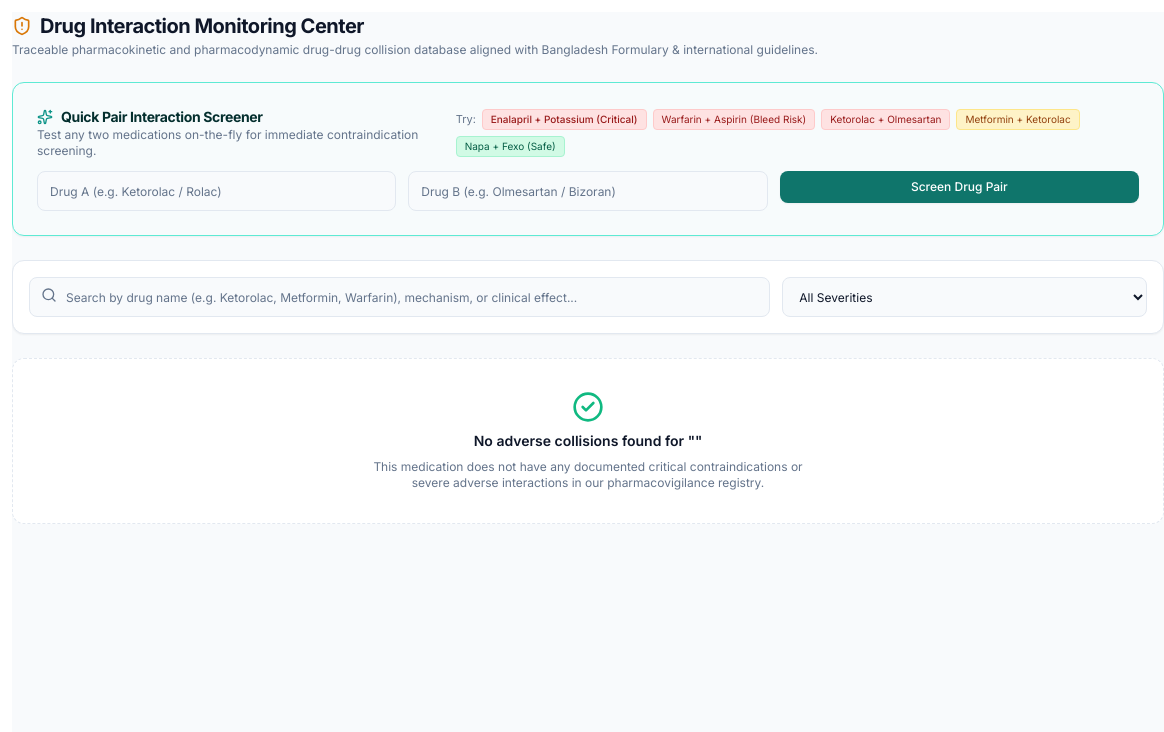
it: DrugInteractionPage › screens Warfarin + Aspirin as CRITICAL bleeding interaction
Type "Warfarin" into the field with placeholder "Drug A (e.g. Ketorolac / Rolac)" at (217, 191), box [37,171,396,211]
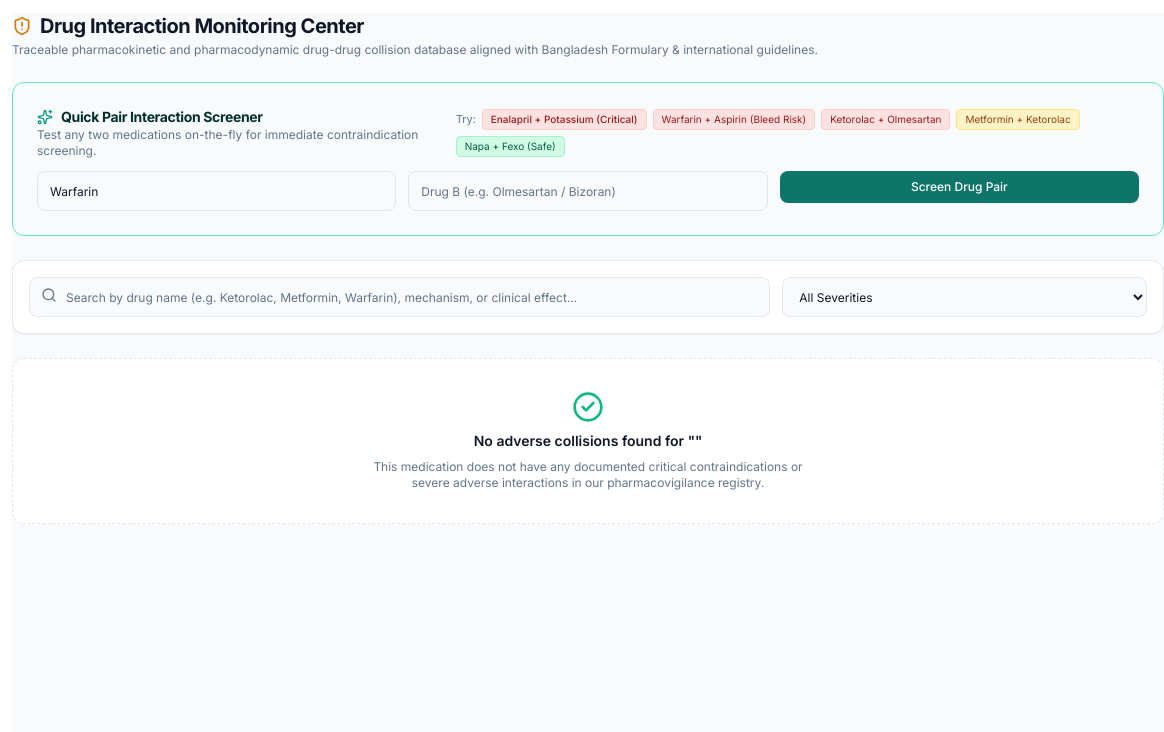
Type "Aspirin" into the field with placeholder "Drug B (e.g. Olmesartan / Bizoran)" at (588, 191), box [408,171,768,211]
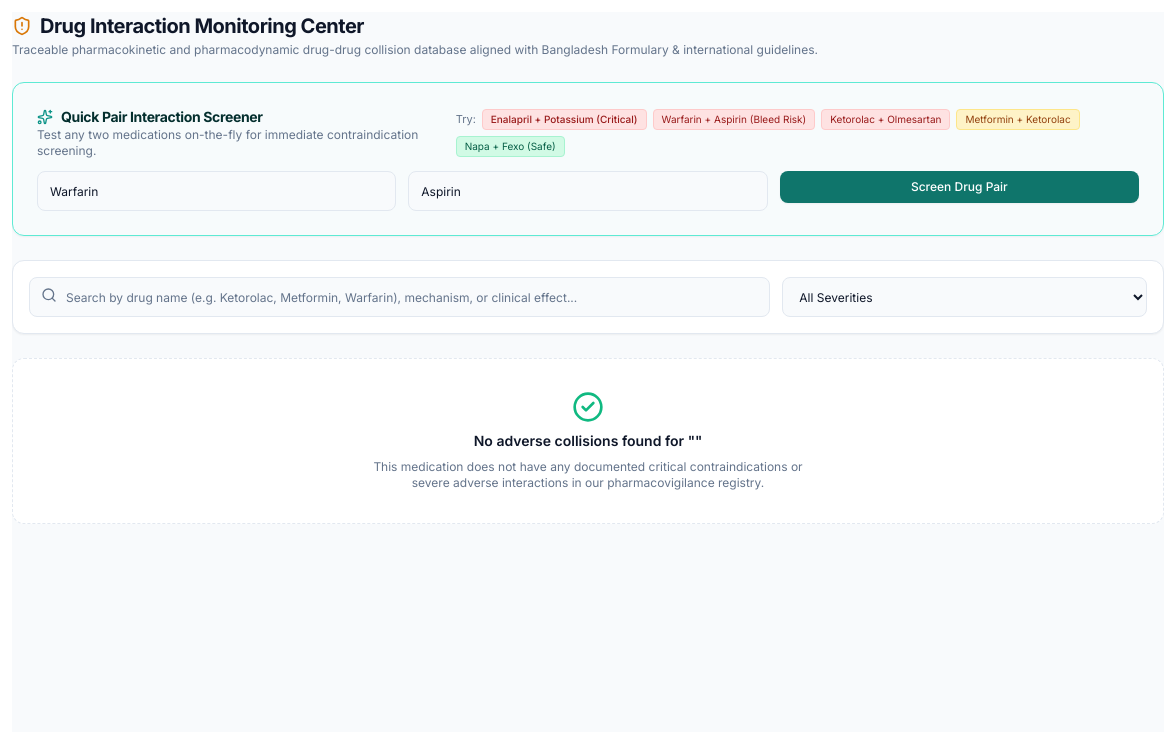
Click the button "Screen Drug Pair" at (959, 187), box [780,171,1139,203]
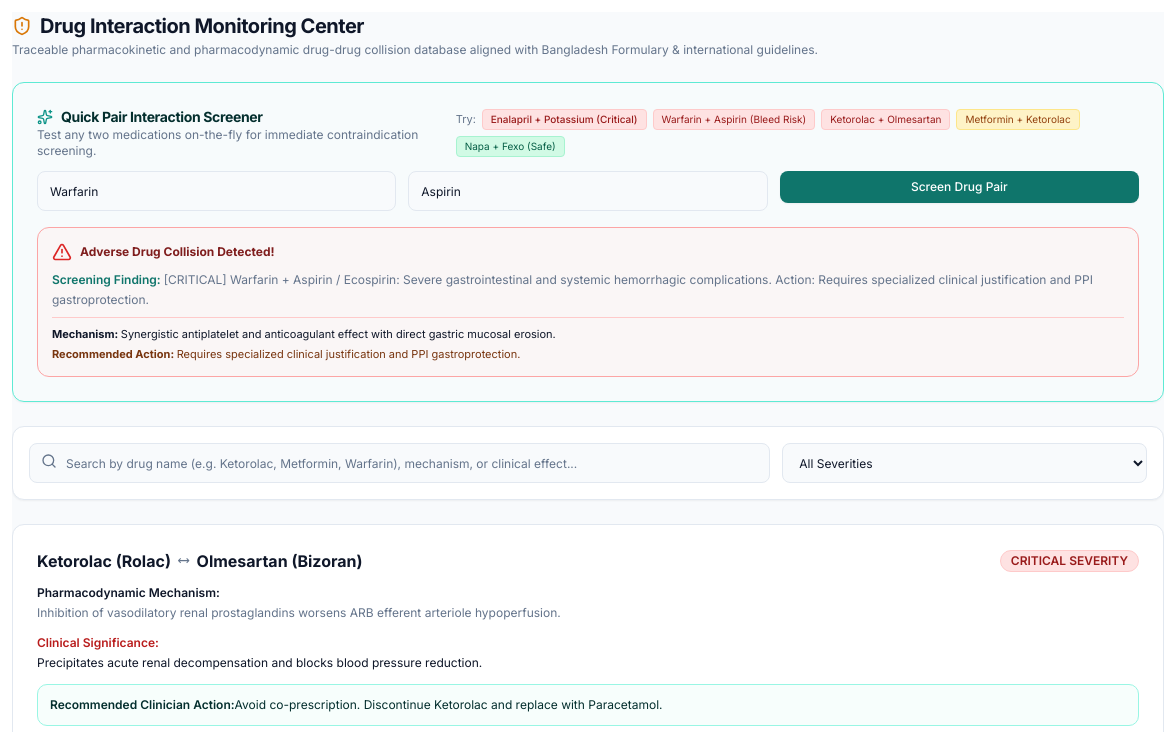
Check: the button "Enalapril + Potassium (Critical)" is shown, box [482,109,646,130]
Check: the text "Screening Finding:" is shown, box [52,272,164,287]
